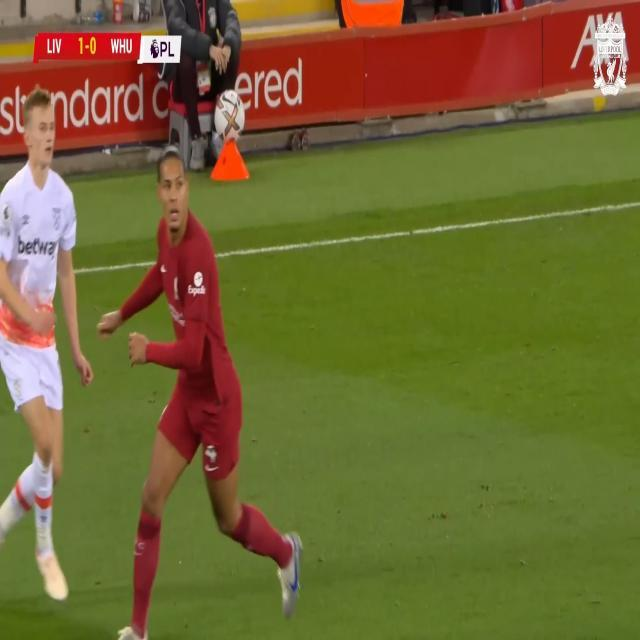Nike: (290, 537, 298, 592), (205, 463, 220, 472)
Standard Chartered: (1, 54, 304, 141)
